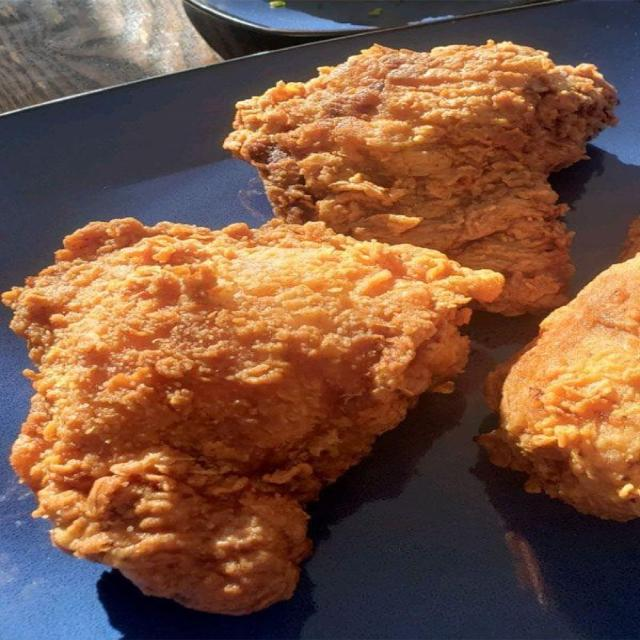Chicken -Fried Chicken-: (7, 208, 432, 630), (203, 13, 560, 305)
